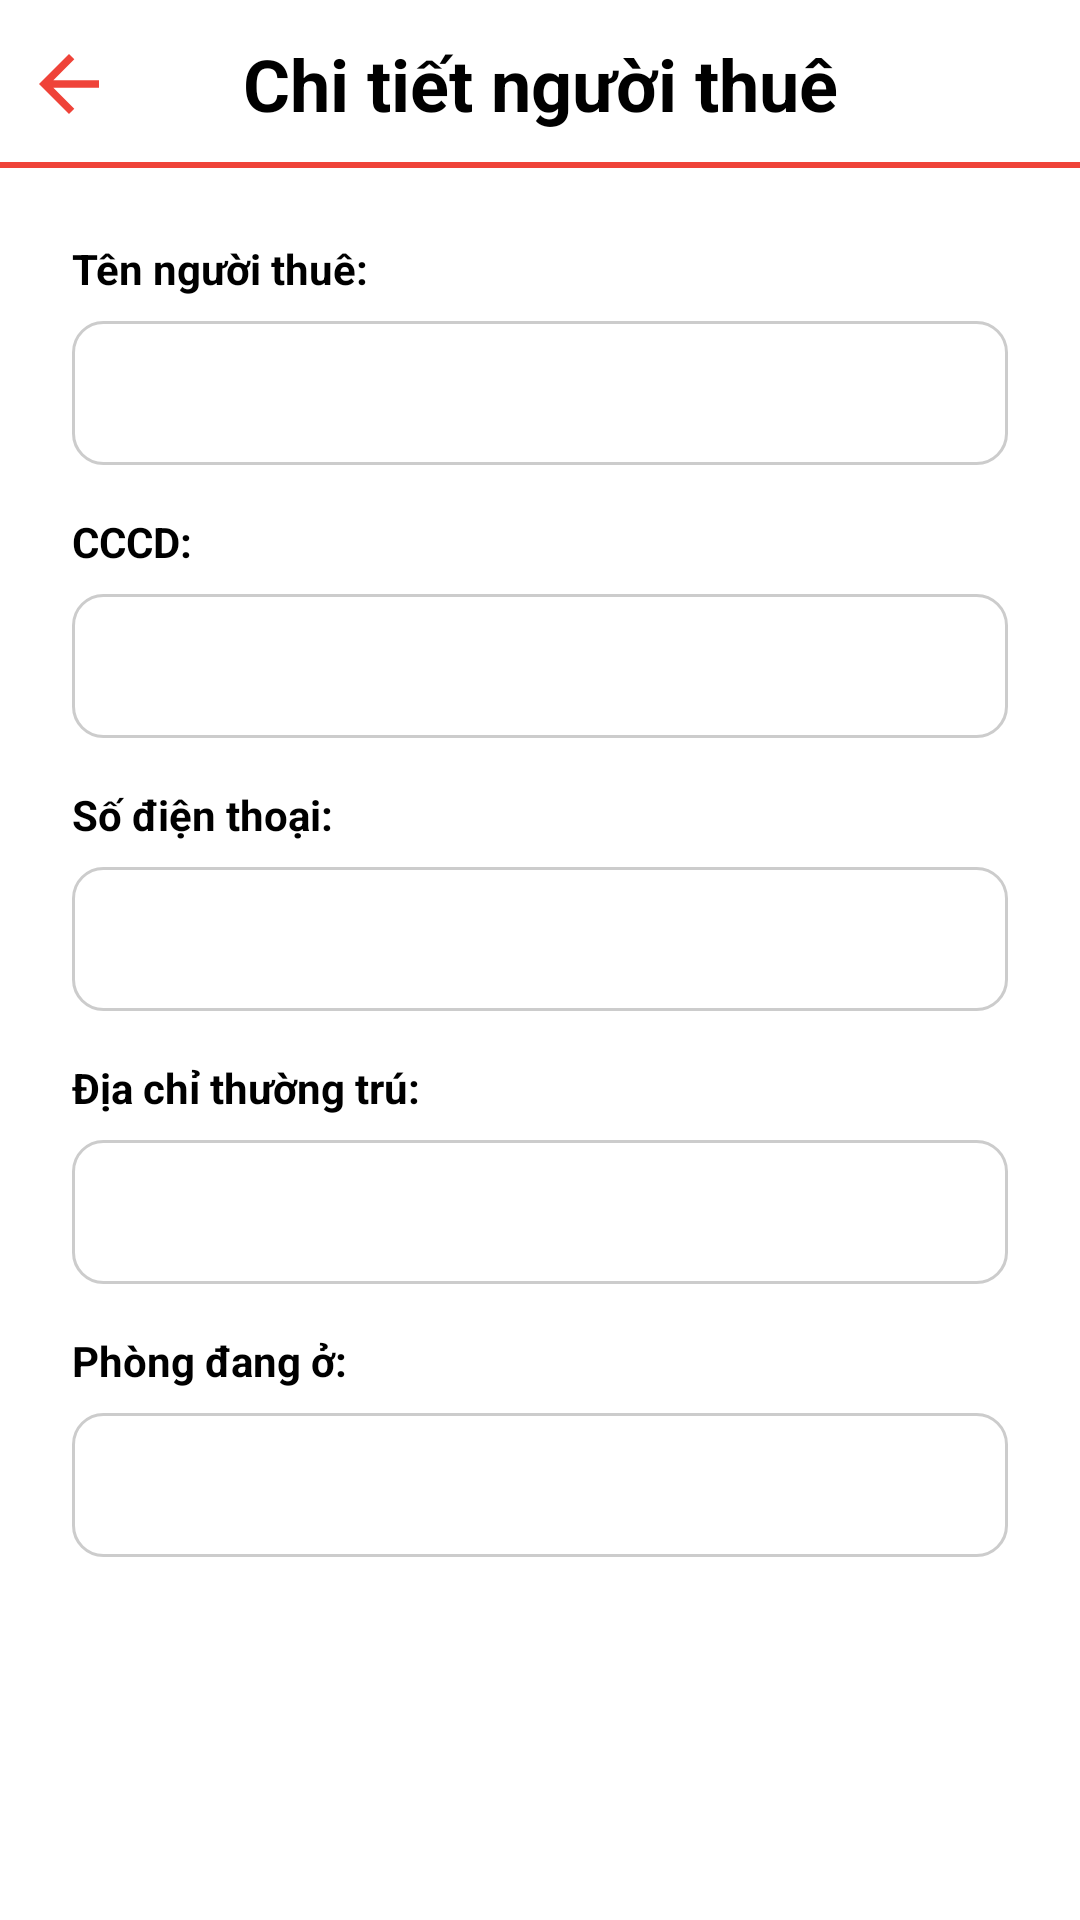

Named icons in this screenshot (1080×1920) and their bounding boxes, (x1, y1, x2, y2):
back: (39, 54, 99, 114)
